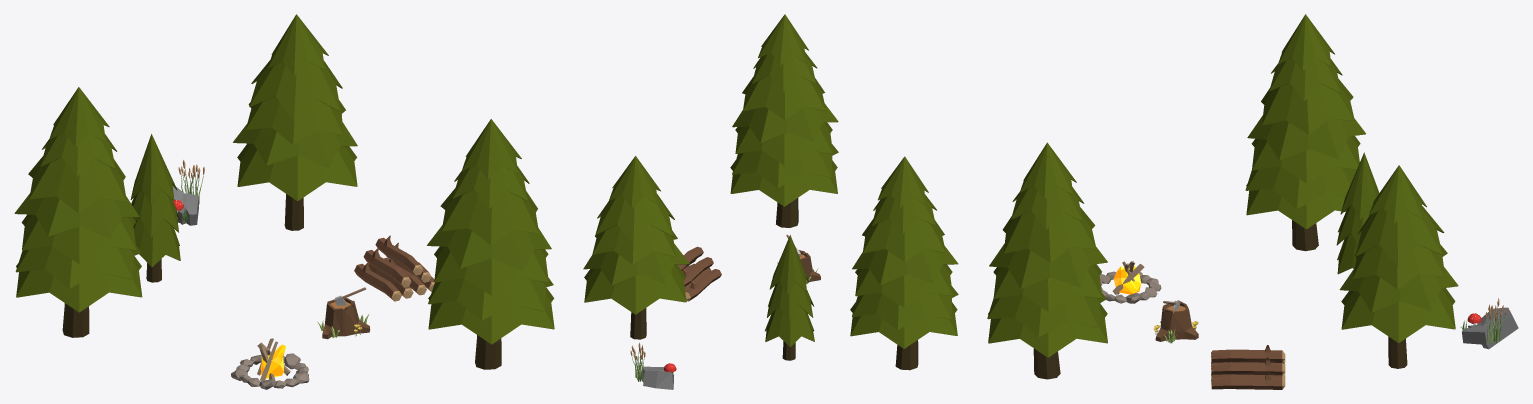
File: littleScene.glb
The picture shows the model from 3 angles, left to right: view 1: azimuth 30°, elevation 25°; view 2: azimuth 150°, elevation 25°; view 3: azimuth 270°, elevation 25°; orthographic projection. The views are drawn at different scales.
Visible parts, largest first — view 1: Tree4_1.001, Tree4_1.002, Tree4_2.001, Tree4_3, Fire2, Stump6, Mushrooms_grass3, Branch2.005, Branch2.003, Branch2.002; view 2: Tree4_1.001, Tree4_1.002, Tree4_2.001, Tree4_3, Mushrooms_grass3, Branch2.002, Branch2.003, Stump6; view 3: Tree4_1.002, Tree4_1.001, Tree4_2.001, Tree4_3, Mushrooms_grass3, Fire2, Stump6, Branch2.004, Branch2, Branch2.005.
Boxes of the visible parts, x1=… form: Tree4_1.001: x1=14, y1=87, x2=142, y2=337; Tree4_1.002: x1=427, y1=119, x2=554, y2=369; Tree4_2.001: x1=233, y1=14, x2=357, y2=230; Tree4_3: x1=130, y1=134, x2=180, y2=282; Fire2: x1=231, y1=338, x2=309, y2=389; Stump6: x1=317, y1=287, x2=370, y2=339; Mushrooms_grass3: x1=172, y1=160, x2=204, y2=225; Branch2.005: x1=375, y1=235, x2=423, y2=275; Branch2.003: x1=363, y1=247, x2=411, y2=287; Branch2.002: x1=354, y1=261, x2=401, y2=301; Tree4_1.001: x1=850, y1=156, x2=958, y2=370; Tree4_1.002: x1=730, y1=14, x2=838, y2=227; Tree4_2.001: x1=583, y1=156, x2=689, y2=339; Tree4_3: x1=765, y1=235, x2=814, y2=360; Mushrooms_grass3: x1=630, y1=342, x2=676, y2=389; Branch2.002: x1=685, y1=269, x2=721, y2=301; Branch2.003: x1=683, y1=257, x2=713, y2=286; Stump6: x1=777, y1=234, x2=820, y2=283; Tree4_1.002: x1=987, y1=142, x2=1107, y2=379; Tree4_1.001: x1=1245, y1=14, x2=1365, y2=251; Tree4_2.001: x1=1339, y1=165, x2=1458, y2=368; Tree4_3: x1=1336, y1=152, x2=1379, y2=274; Mushrooms_grass3: x1=1460, y1=298, x2=1518, y2=349; Fire2: x1=1099, y1=261, x2=1161, y2=303; Stump6: x1=1153, y1=300, x2=1198, y2=343; Branch2.004: x1=1211, y1=357, x2=1285, y2=375; Branch2: x1=1211, y1=372, x2=1285, y2=389; Branch2.005: x1=1211, y1=345, x2=1285, y2=362.
Bounding box in the file's own units: 17.13 × 10.24 × 20.6.
